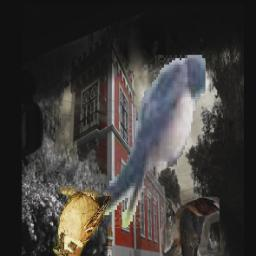Sparrow: (52, 187, 112, 256)
Swallow: (100, 56, 207, 229), (161, 198, 220, 256)
